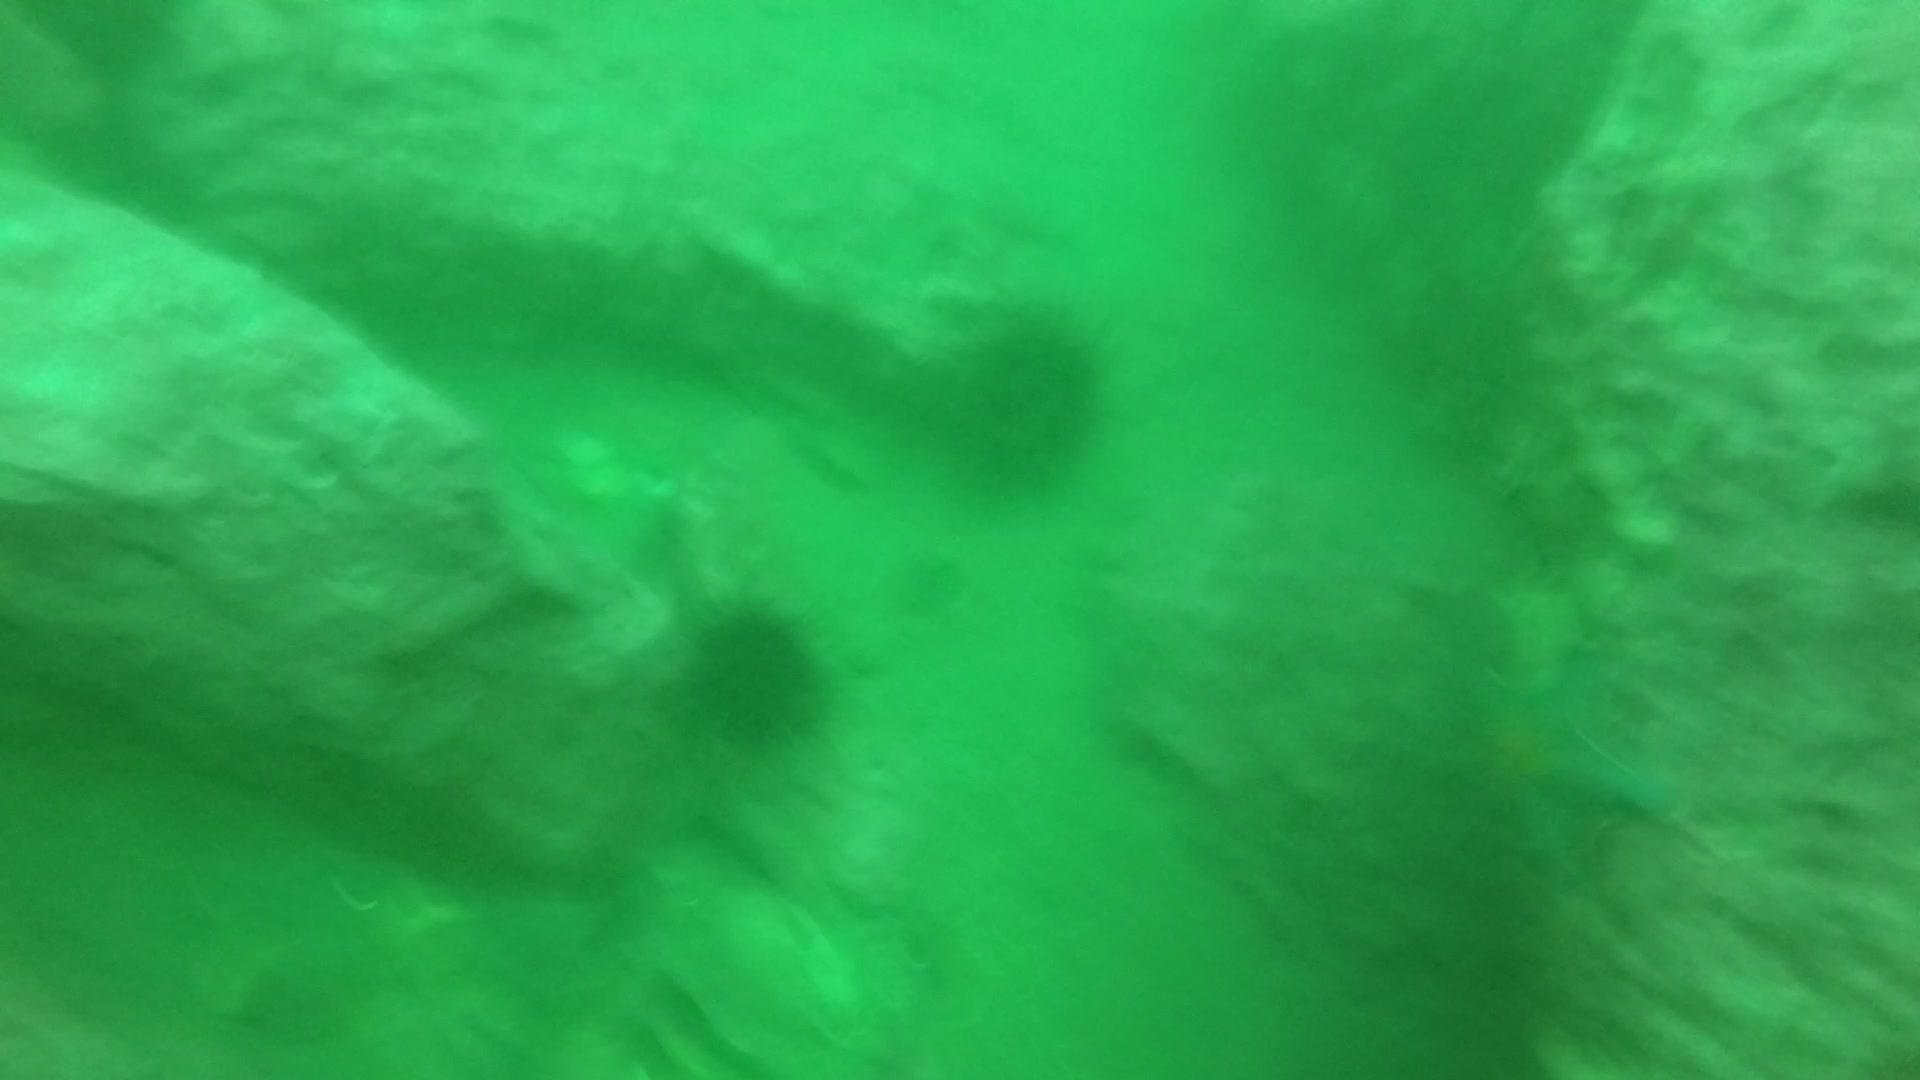echinus: (936, 301, 1117, 501), (679, 592, 837, 750)
starfish: (1431, 644, 1683, 878)
